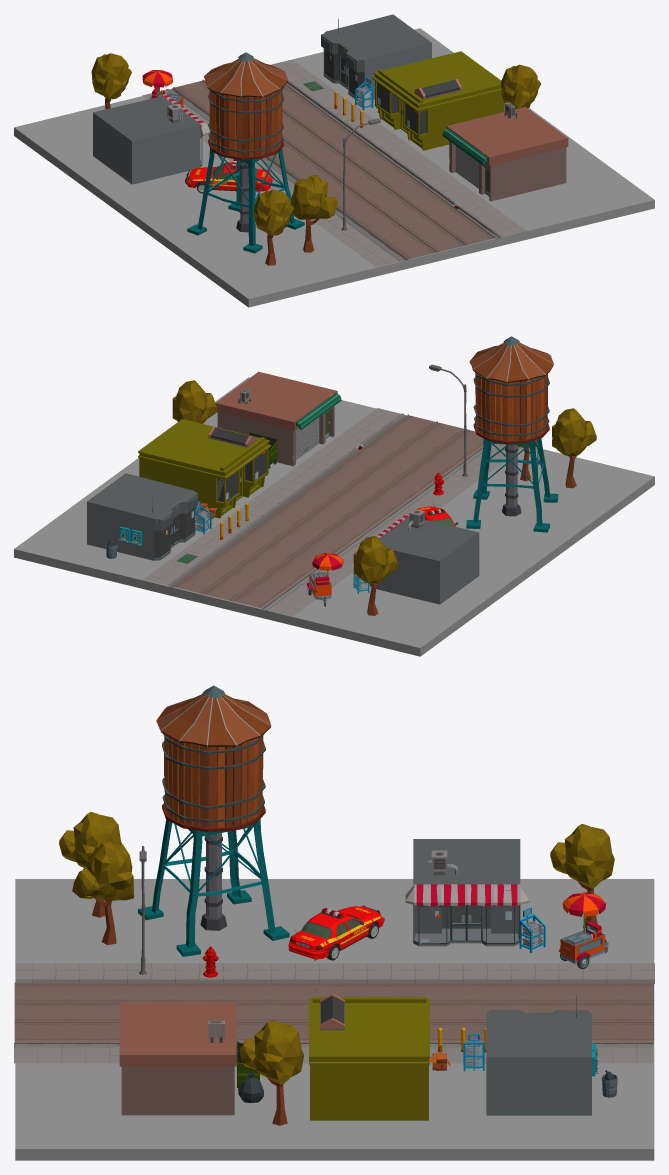
The model's file is City Area 10.fbx.
The picture shows the model from 3 angles, top to bottom: view 1: azimuth 30°, elevation 25°; view 2: azimuth 150°, elevation 25°; view 3: azimuth 270°, elevation 25°; orthographic projection. The views are drawn at different scales.
Visible parts, largest first — view 1: SM_Env_Sidewalk_Straight_01.132, Plane.010, SM_Prop_Water_Tower_01, SM_Bld_Shop_01.003, SM_Bld_Shop_01, SM_Env_Tree_03.037, SM_Env_Tree_03.036, SM_Env_Tree_03.021, SM_Env_Tree_03.034, SM_Veh_Car_Police_01, SM_Bld_Shop_01_Glass, SM_Prop_HotdogStand_01.001; view 2: SM_Env_Sidewalk_Straight_01.132, Plane.010, SM_Prop_Water_Tower_01, SM_Bld_Shop_01.003, SM_Bld_Shop_01, SM_Env_Tree_03.021, SM_Env_Tree_03.036, SM_Env_Tree_03.034, SM_Prop_HotdogStand_01.001, SM_Bld_Shop_01_Glass; view 3: Plane.010, SM_Env_Sidewalk_Straight_01.132, SM_Prop_Water_Tower_01, SM_Bld_Shop_01, SM_Bld_Shop_01.003, SM_Env_Tree_03.034, SM_Env_Tree_03.037, SM_Env_Tree_03.021, SM_Veh_Car_Police_01, SM_Bld_Shop_Cover_04.002, SM_Prop_HotdogStand_01.001, SM_Env_Tree_03.036 (+1 smaller).
Part boxes in pixels (x1,y1,x2,y2): SM_Env_Sidewalk_Straight_01.132: (142,51,568,267); Plane.010: (14,28,654,307); SM_Prop_Water_Tower_01: (187,52,304,253); SM_Bld_Shop_01.003: (93,96,203,184); SM_Bld_Shop_01: (321,14,431,100); SM_Env_Tree_03.037: (291,175,337,252); SM_Env_Tree_03.036: (254,189,294,265); SM_Env_Tree_03.021: (91,53,131,109); SM_Env_Tree_03.034: (501,64,541,108); SM_Veh_Car_Police_01: (185,159,272,191); SM_Bld_Shop_01_Glass: (324,49,364,97); SM_Prop_HotdogStand_01.001: (142,70,183,106); SM_Env_Sidewalk_Straight_01.132: (138,364,522,616); Plane.010: (14,377,654,656); SM_Prop_Water_Tower_01: (466,336,558,532); SM_Bld_Shop_01.003: (369,516,479,604); SM_Bld_Shop_01: (87,473,197,560); SM_Env_Tree_03.021: (353,536,398,615); SM_Env_Tree_03.036: (552,408,596,488); SM_Env_Tree_03.034: (172,380,217,423); SM_Prop_HotdogStand_01.001: (307,553,343,606); SM_Bld_Shop_01_Glass: (154,507,194,557); Plane.010: (15,879,654,1160); SM_Env_Sidewalk_Straight_01.132: (14,846,654,1120); SM_Prop_Water_Tower_01: (138,685,289,956); SM_Bld_Shop_01: (486,1009,591,1115); SM_Bld_Shop_01.003: (413,839,520,946); SM_Env_Tree_03.034: (239,1020,304,1125); SM_Env_Tree_03.037: (72,841,133,944); SM_Env_Tree_03.021: (550,824,614,928); SM_Veh_Car_Police_01: (288,905,384,960); SM_Bld_Shop_Cover_04.002: (405,884,529,906); SM_Prop_HotdogStand_01.001: (558,892,608,969); SM_Env_Tree_03.036: (59,812,122,917).
Size of the model in its own units: 10000 by 4347 by 10029.
